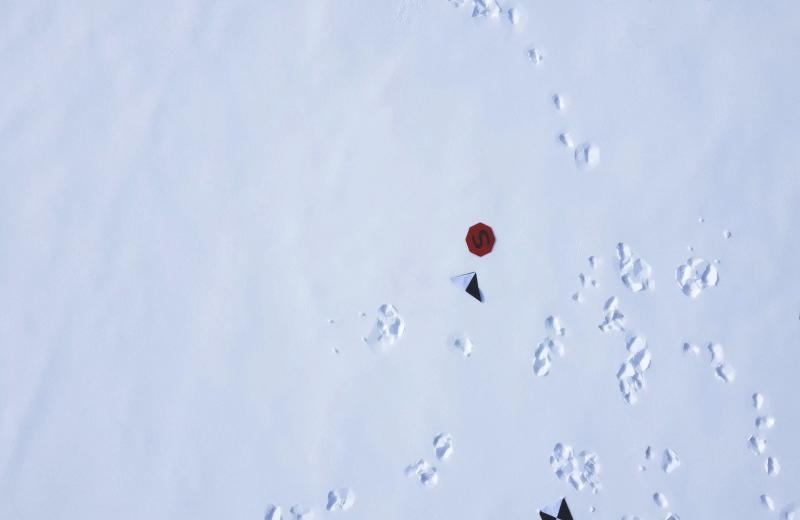Octagon: (464, 219, 496, 261)
